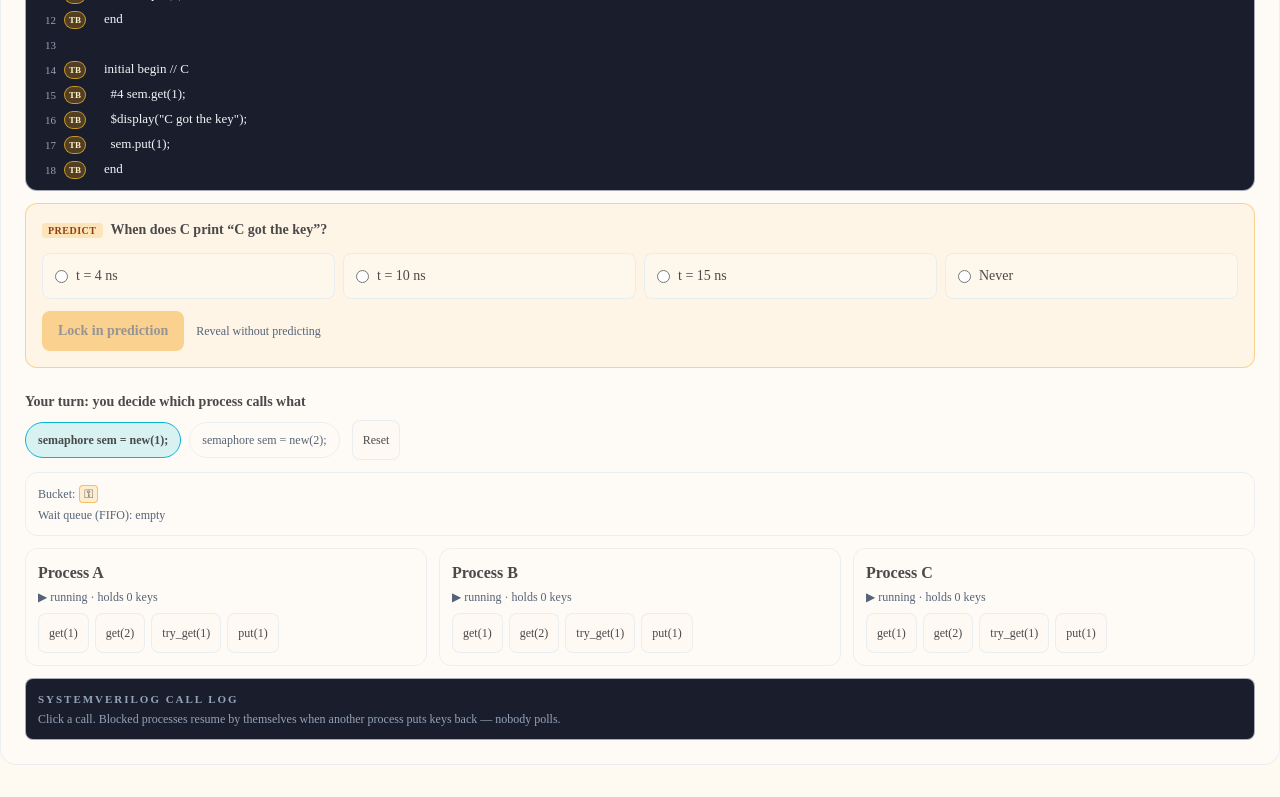
Test: MailboxSemaphoreGame › wakes a blocked semaphore waiter automatically, in FIFO order
(page scrolled)
Click the button with aria-label "A: sem.get(1)": [63, 633] box x1=38 y1=613 x2=89 y2=653
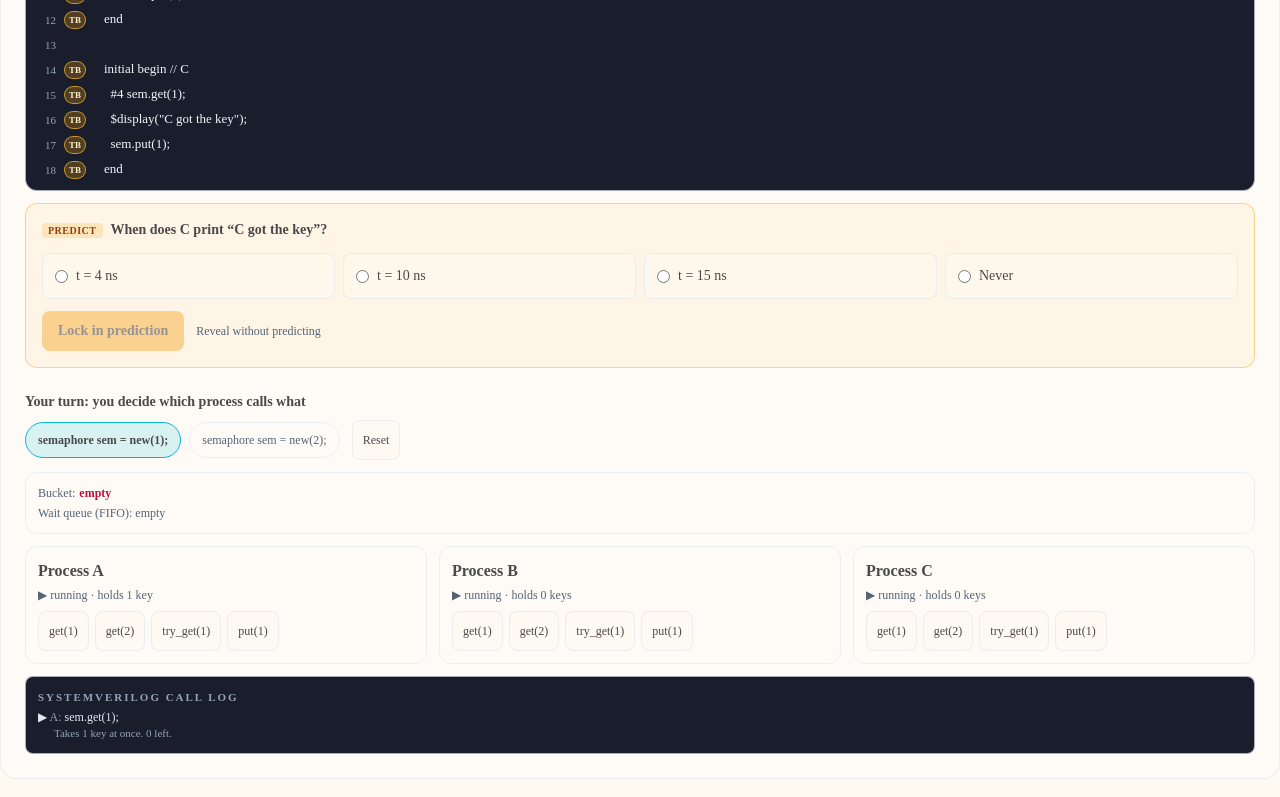
Click the button with aria-label "B: sem.get(1)": [477, 631] box x1=452 y1=611 x2=503 y2=651
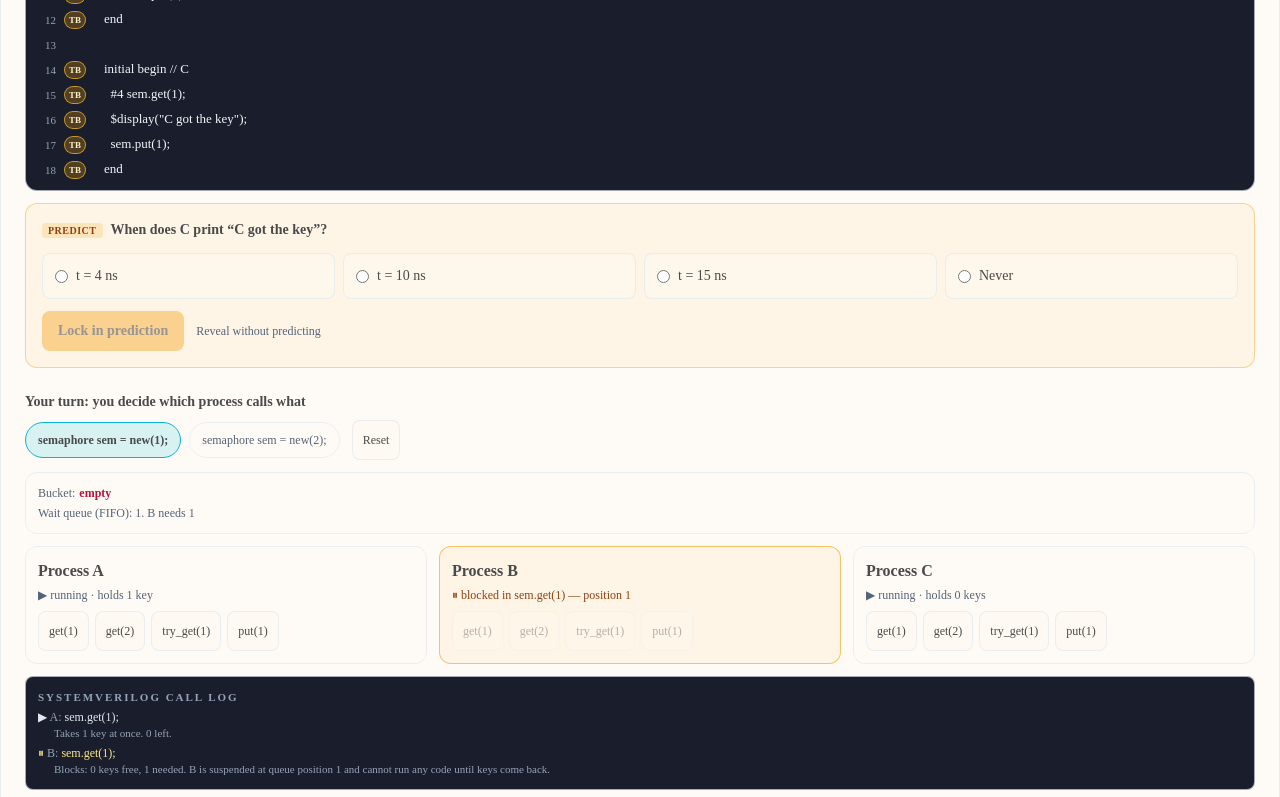
Click the button with aria-label "C: sem.get(1)": [891, 631] box x1=866 y1=611 x2=917 y2=651
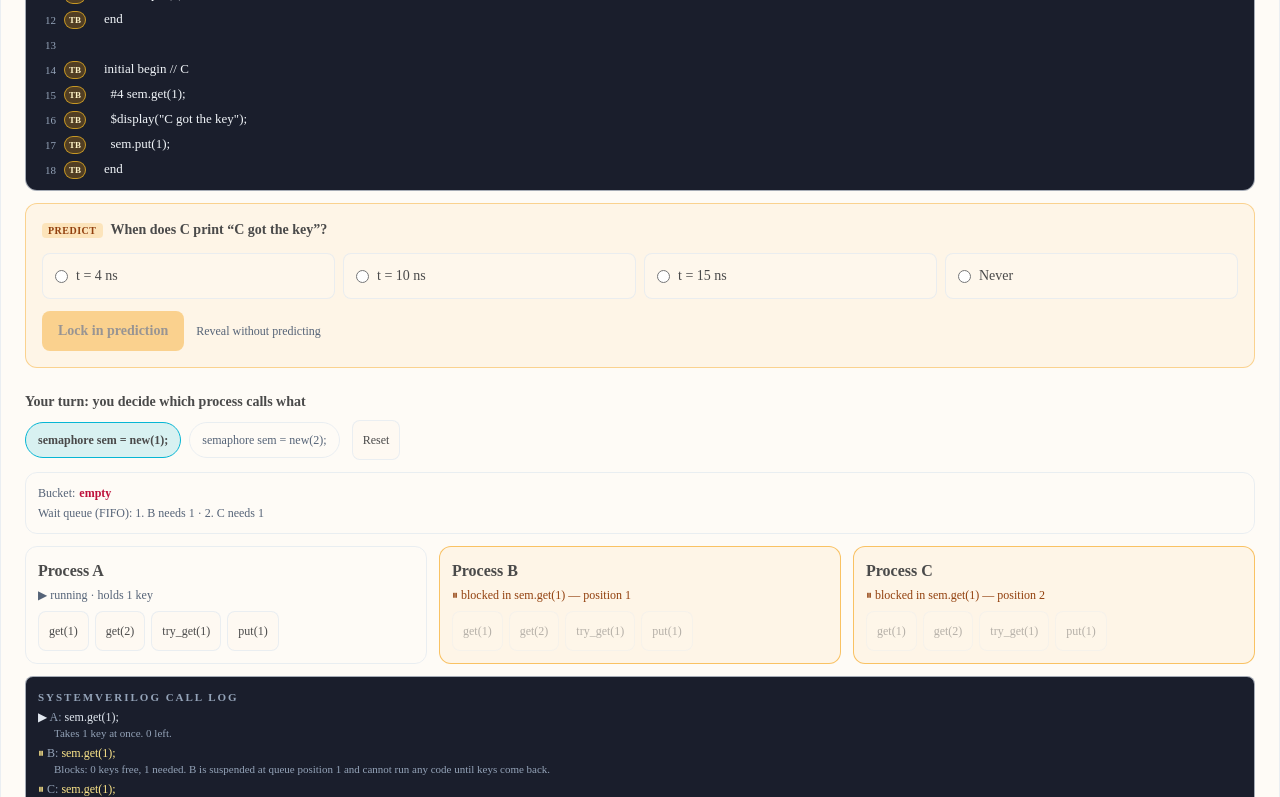
Expected: the element with id "sem-status-B" shows "blocked in sem.get(1) — position 1", x1=461 y1=588 x2=631 y2=602
Expected: the button with aria-label "B: sem.put(1)" is disabled, x1=641 y1=611 x2=693 y2=651
Expected: the element with id "sem-status-C" shows "position 2", x1=875 y1=588 x2=1045 y2=602
Click the button with aria-label "A: sem.put(1)": [253, 631] box x1=227 y1=611 x2=279 y2=651
(page scrolled)
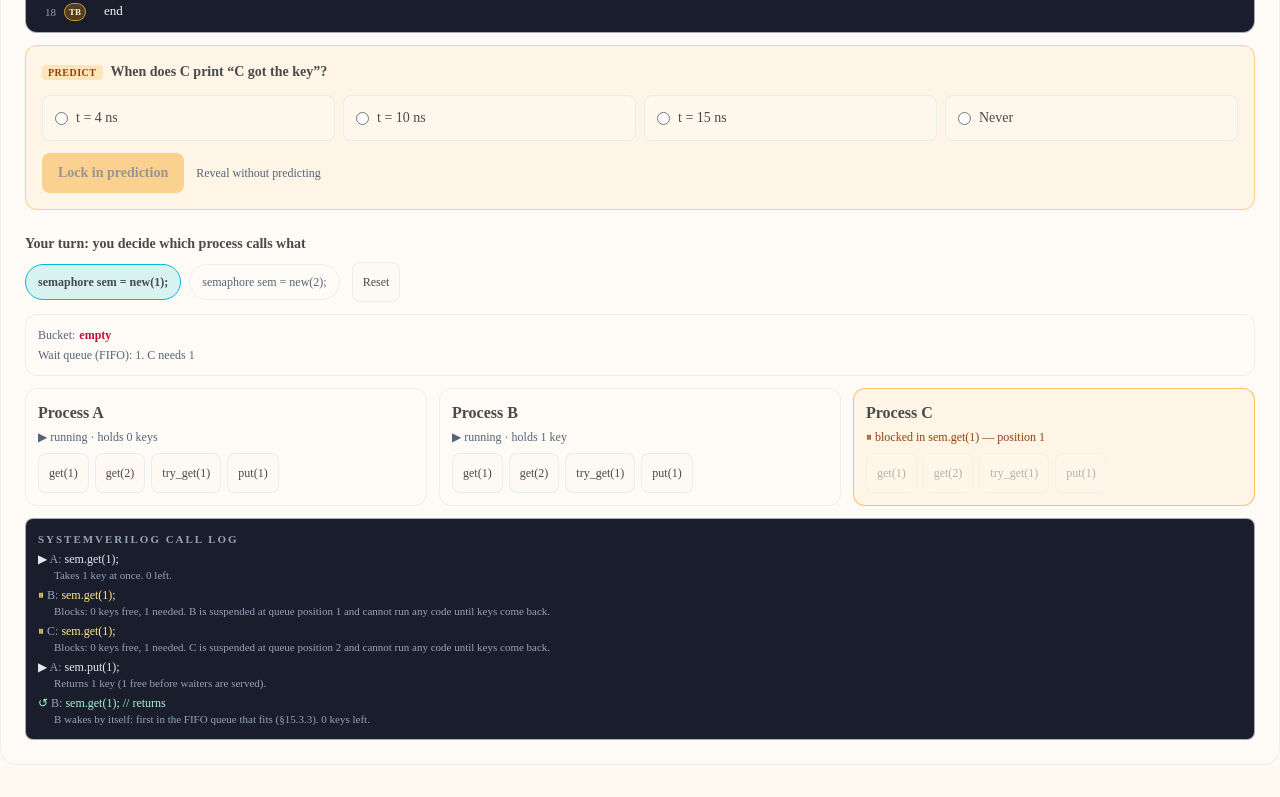
Expected: the element with id "sem-status-C" shows "blocked", x1=875 y1=430 x2=1045 y2=444
Expected: the element with id "sem-status-B" shows "running · holds 1 key", x1=464 y1=430 x2=567 y2=444
Expected: the text "B wakes by itself" is shown, x1=54 y1=713 x2=370 y2=725
